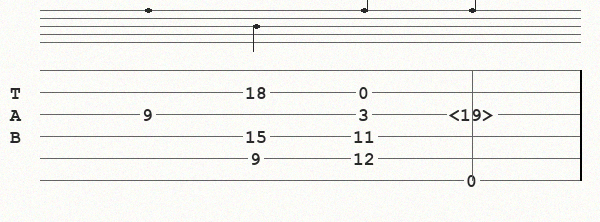0: (358, 84, 373, 100), (466, 172, 481, 188)
11: (353, 128, 379, 144)
12: (353, 150, 379, 166)
15: (245, 128, 271, 144)
18: (245, 84, 271, 100)
3: (358, 106, 373, 122)
9: (142, 106, 157, 122), (250, 150, 265, 166)
harmonic: (449, 106, 499, 122)
